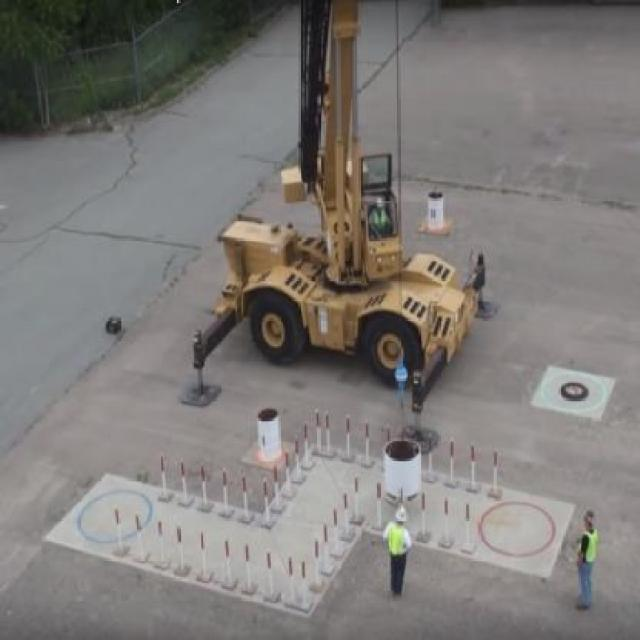Mobile Crane: (183, 0, 498, 418)
